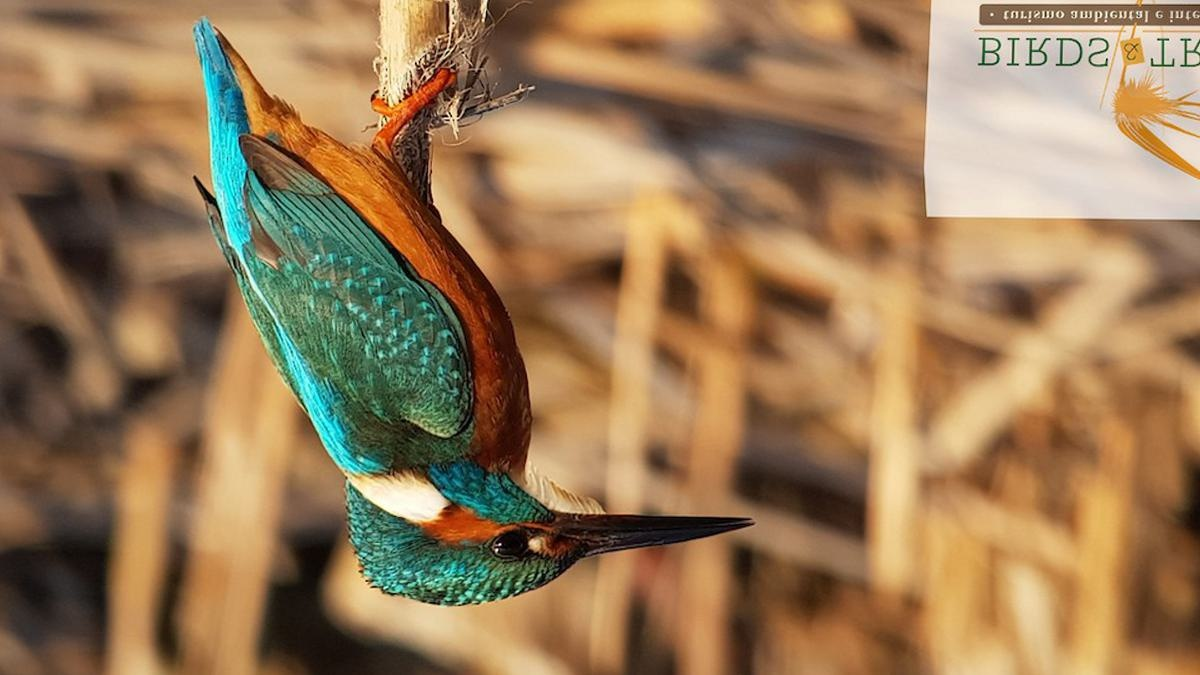kingfisher: (183, 17, 769, 607)
